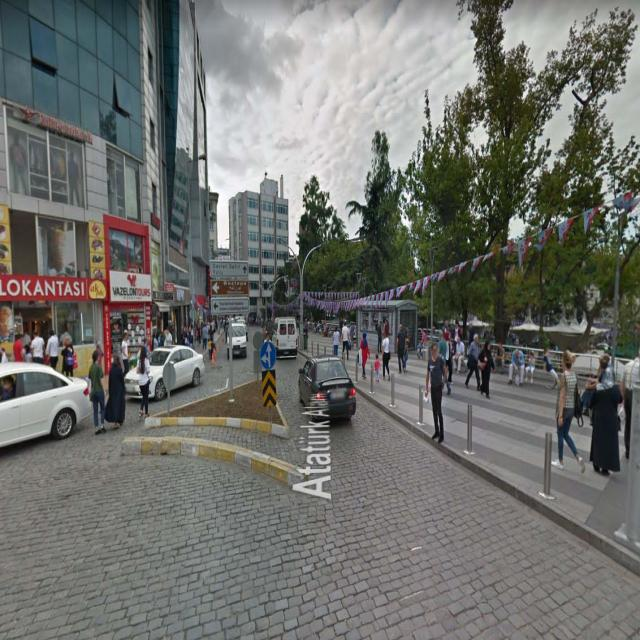ilerisol: (260, 342, 276, 369)
